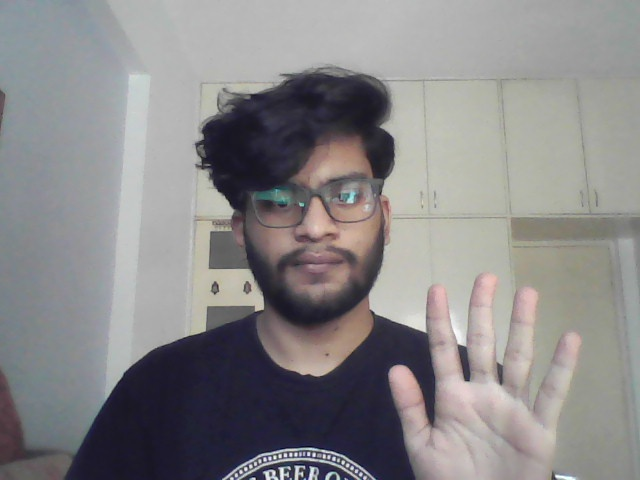Goodbye: (384, 270, 584, 478)
